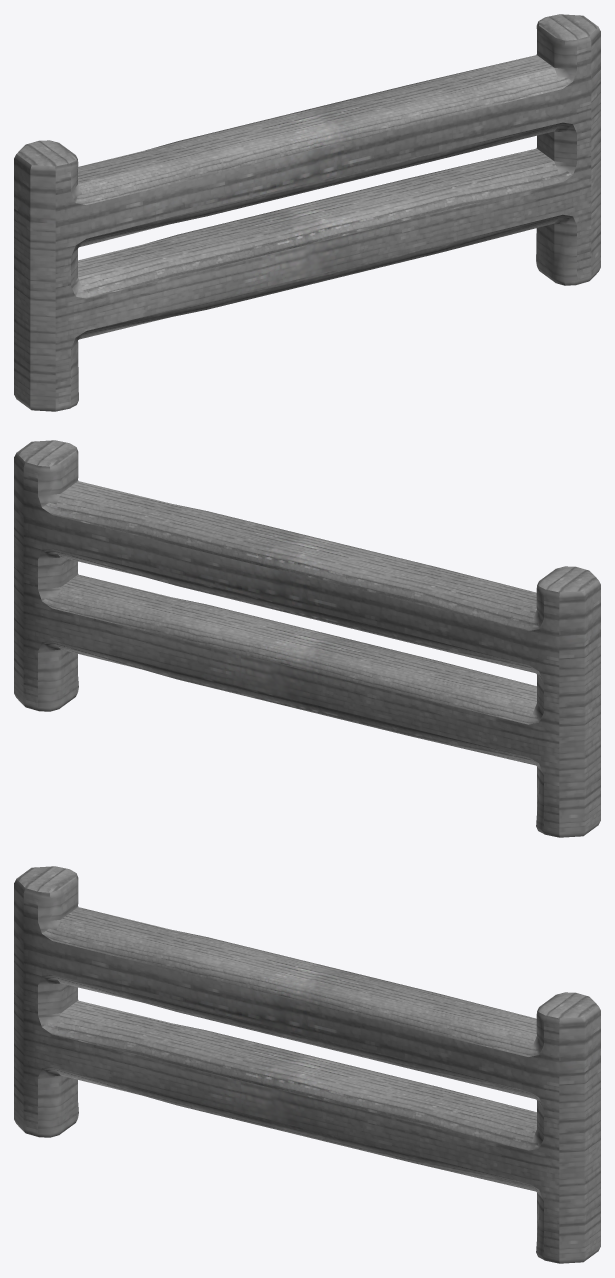
Rendered from Fencepost.obj.
3 views of the same model, one above another, from view 1: azimuth 30°, elevation 25°; view 2: azimuth 150°, elevation 25°; view 3: azimuth 330°, elevation 25° (orthographic).
Parts seen in each view (by area): view 1: FencePosts; view 2: FencePosts; view 3: FencePosts.
Boxes of the visible parts, x1,y1,x2,y2 form: FencePosts: (14, 14, 600, 411); FencePosts: (14, 440, 600, 837); FencePosts: (14, 866, 600, 1263).
Size of the model in its own units: 479 by 200 by 50.
1 material, 1 textured.
